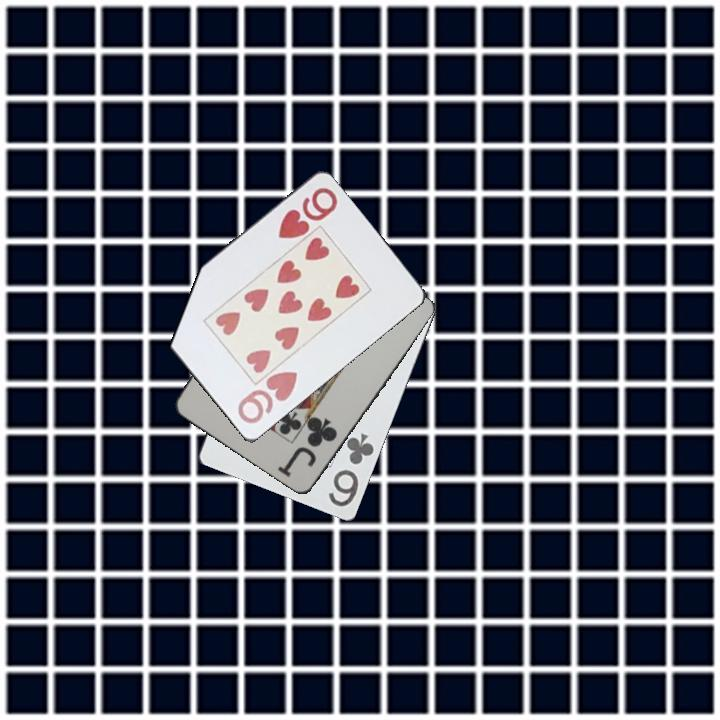6c: (325, 429, 377, 510)
9h: (274, 184, 341, 244), (234, 368, 301, 427)
Jc: (277, 414, 340, 481)
